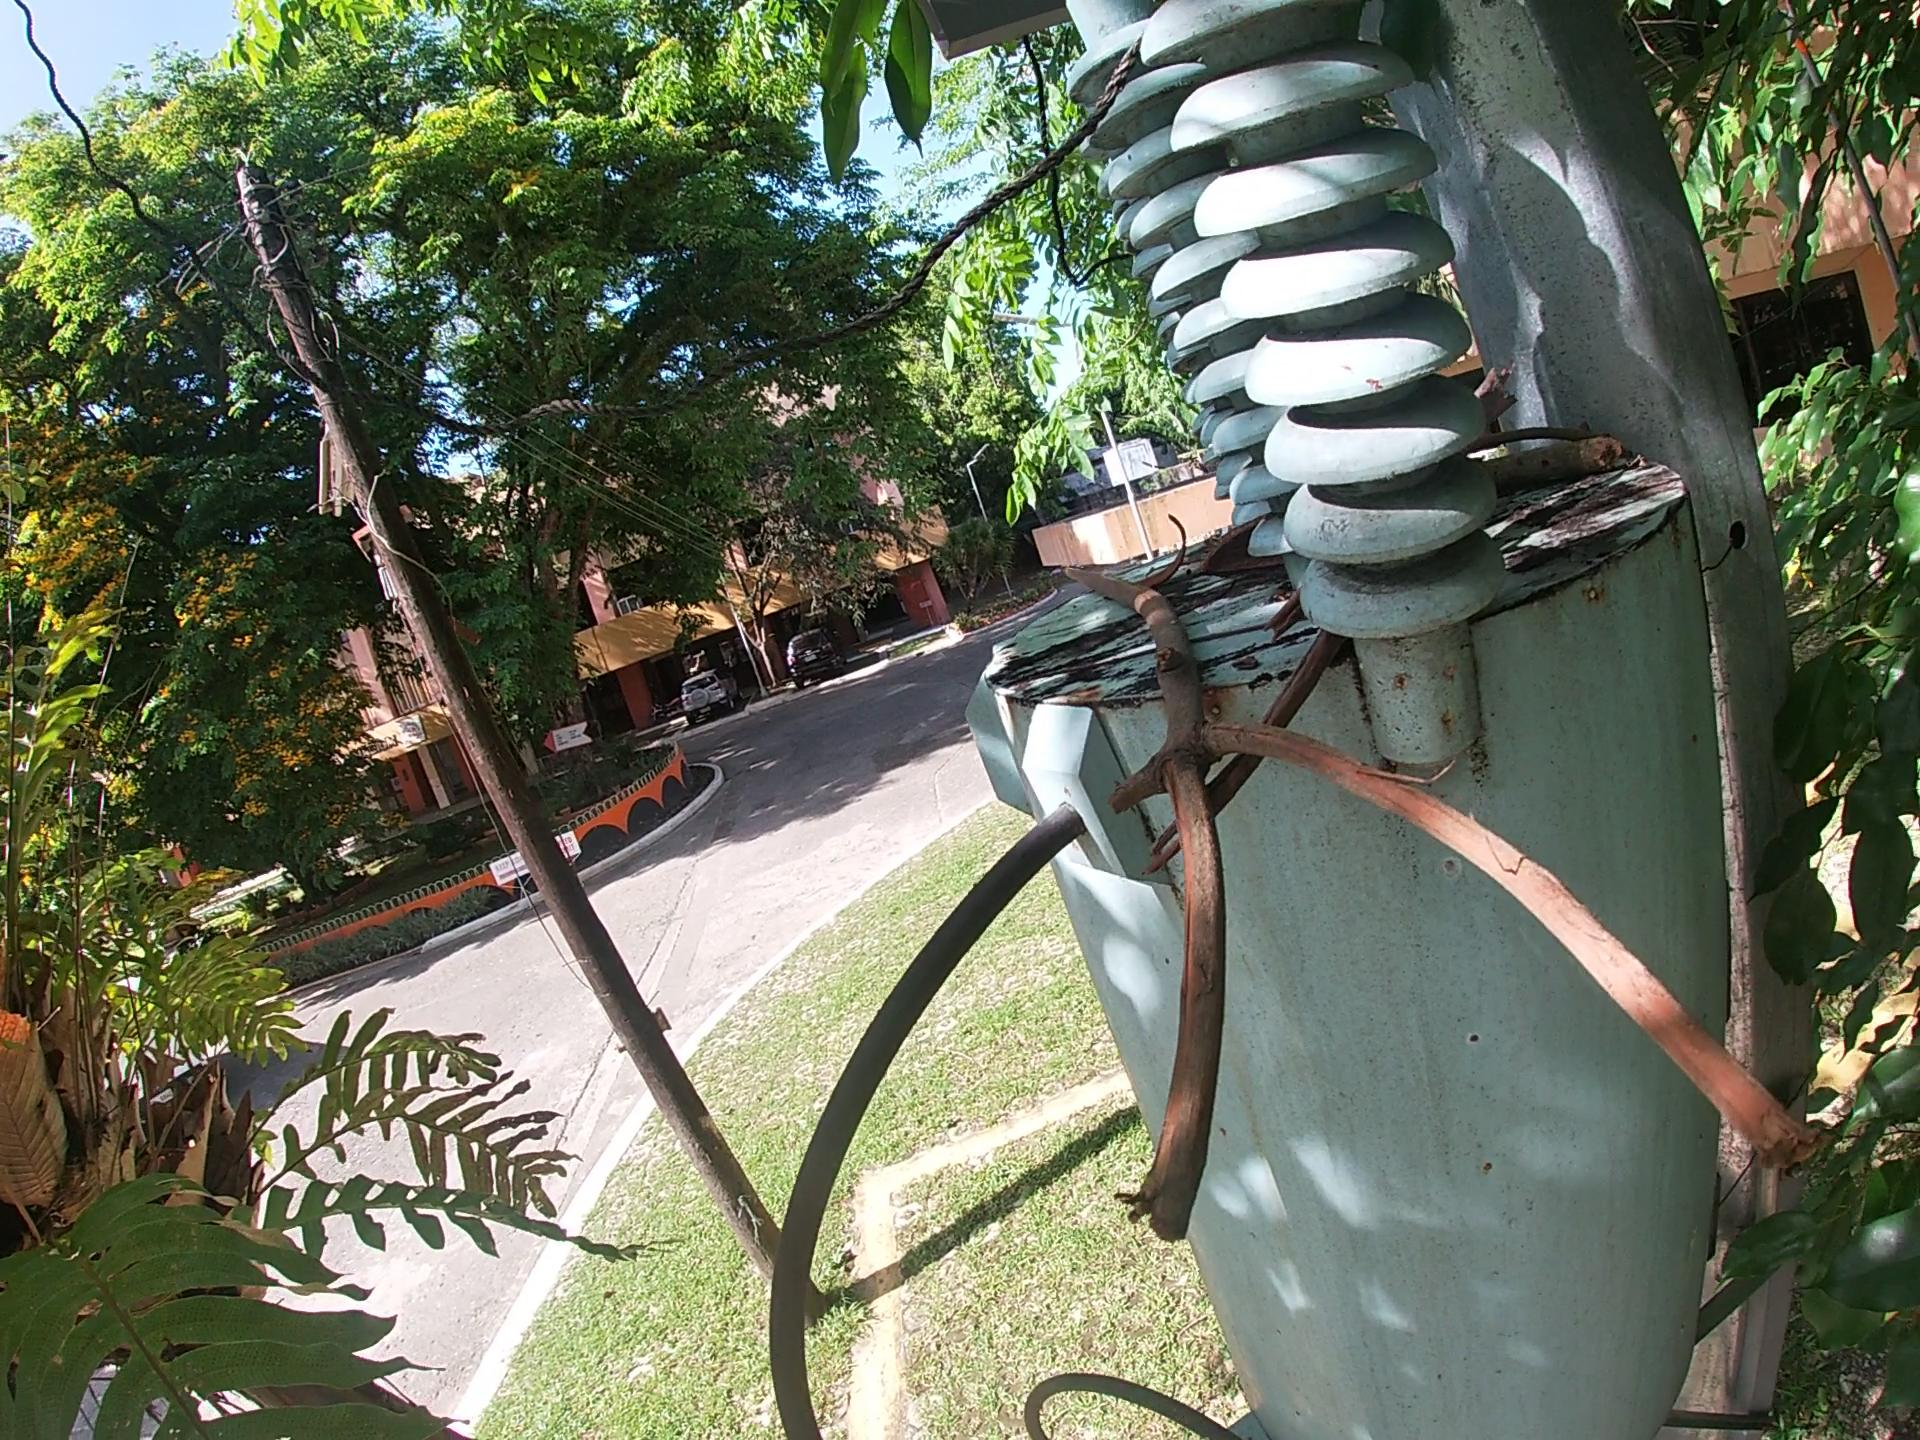mahogany fruit: (1188, 514, 1285, 593), (1140, 511, 1197, 597)
tree branch: (1058, 558, 1838, 1258), (1138, 590, 1352, 885), (1471, 416, 1637, 508)
